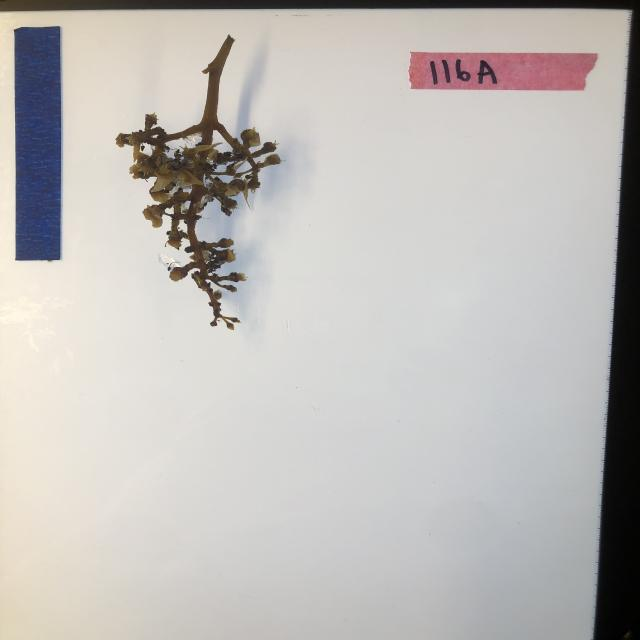index: (407, 48, 598, 93)
measure_label: (14, 25, 64, 262)
rachis_cluster: (108, 32, 313, 331)
